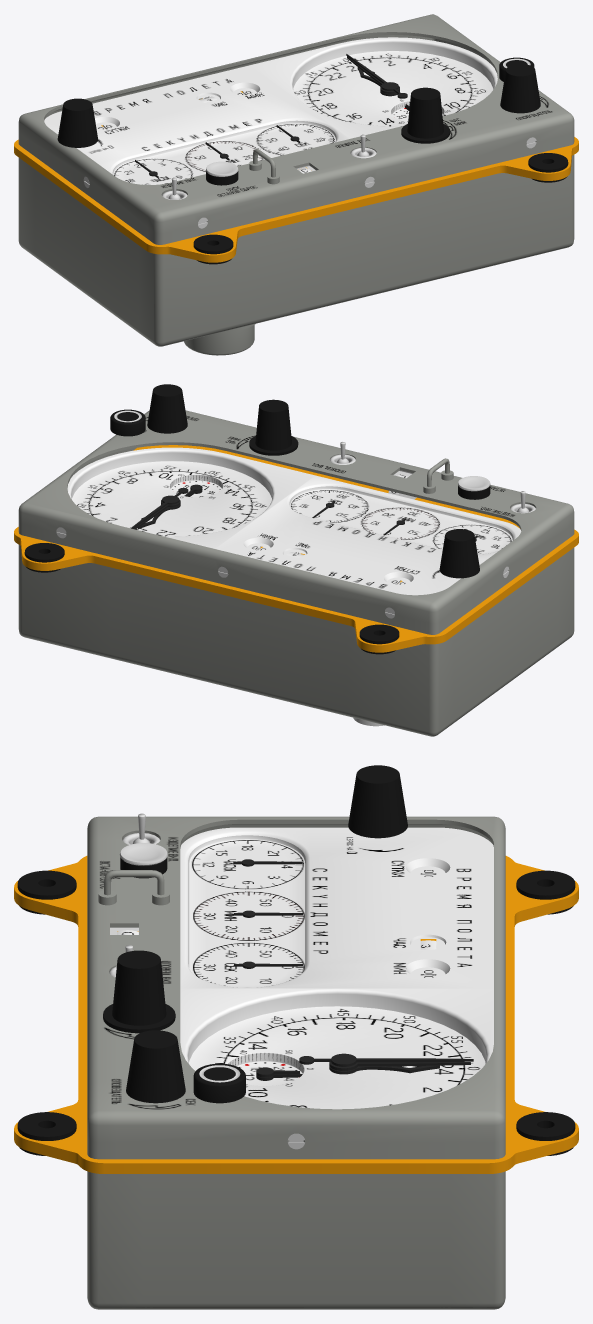
File: SoyuzElectroMechanicalSpaceClock_009.glb
3 renders of one model, top to bottom at view 1: azimuth 30°, elevation 25°; view 2: azimuth 150°, elevation 25°; view 3: azimuth 270°, elevation 25°, orthographic. The views are drawn at different scales.
Visible parts, largest first — view 1: bottom_cap, plate_face, top_cap, flipped_plate, small_nob.002, small_nob.001, small_nob, cap, bump_rubber.003, bump_rubber.004; view 2: bottom_cap, plate_face, top_cap, flipped_plate, small_nob.002, small_nob.001, small_nob, white_circle_nob, bump_rubber.001, bump_rubber.002; view 3: plate_face, bottom_cap, top_cap, flipped_plate, small_nob.002, small_nob, small_nob.001, white_circle_nob, bump_rubber.001, bump_rubber.003, bump_rubber.002, bump_rubber.004 (+3 smaller).
Boxes of the visible parts, x1,y1,x2,y2 form: bottom_cap: [18, 155, 574, 346]; plate_face: [44, 37, 497, 184]; top_cap: [18, 14, 574, 244]; flipped_plate: [14, 91, 578, 262]; small_nob.002: [401, 87, 450, 143]; small_nob.001: [500, 64, 540, 113]; small_nob: [57, 98, 97, 147]; cap: [184, 323, 255, 355]; bump_rubber.003: [193, 234, 233, 264]; bump_rubber.004: [528, 153, 568, 182]; bottom_cap: [18, 545, 574, 736]; plate_face: [67, 447, 521, 595]; top_cap: [18, 410, 574, 634]; flipped_plate: [14, 445, 578, 652]; small_nob.002: [249, 399, 298, 455]; small_nob.001: [147, 384, 187, 433]; small_nob: [439, 529, 479, 578]; white_circle_nob: [110, 409, 145, 436]; bump_rubber.001: [359, 624, 399, 654]; bump_rubber.002: [24, 543, 64, 572]; plate_face: [180, 827, 493, 1109]; bottom_cap: [87, 1171, 505, 1309]; top_cap: [87, 816, 505, 1159]; flipped_plate: [14, 856, 578, 1173]; small_nob.002: [103, 950, 175, 1033]; small_nob: [348, 765, 407, 838]; small_nob.001: [126, 1030, 185, 1103]; white_circle_nob: [193, 1063, 245, 1103]; bump_rubber.001: [516, 870, 575, 914]; bump_rubber.003: [17, 870, 76, 914]; bump_rubber.002: [516, 1112, 575, 1155]; bump_rubber.004: [17, 1112, 76, 1155].
Bounding box in the file's own units: 0.1581 × 0.0717 × 0.1216.
17 materials, 9 textured.
